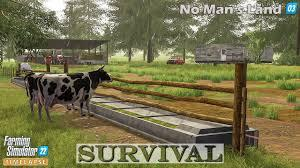cow: (35, 70, 113, 122)
